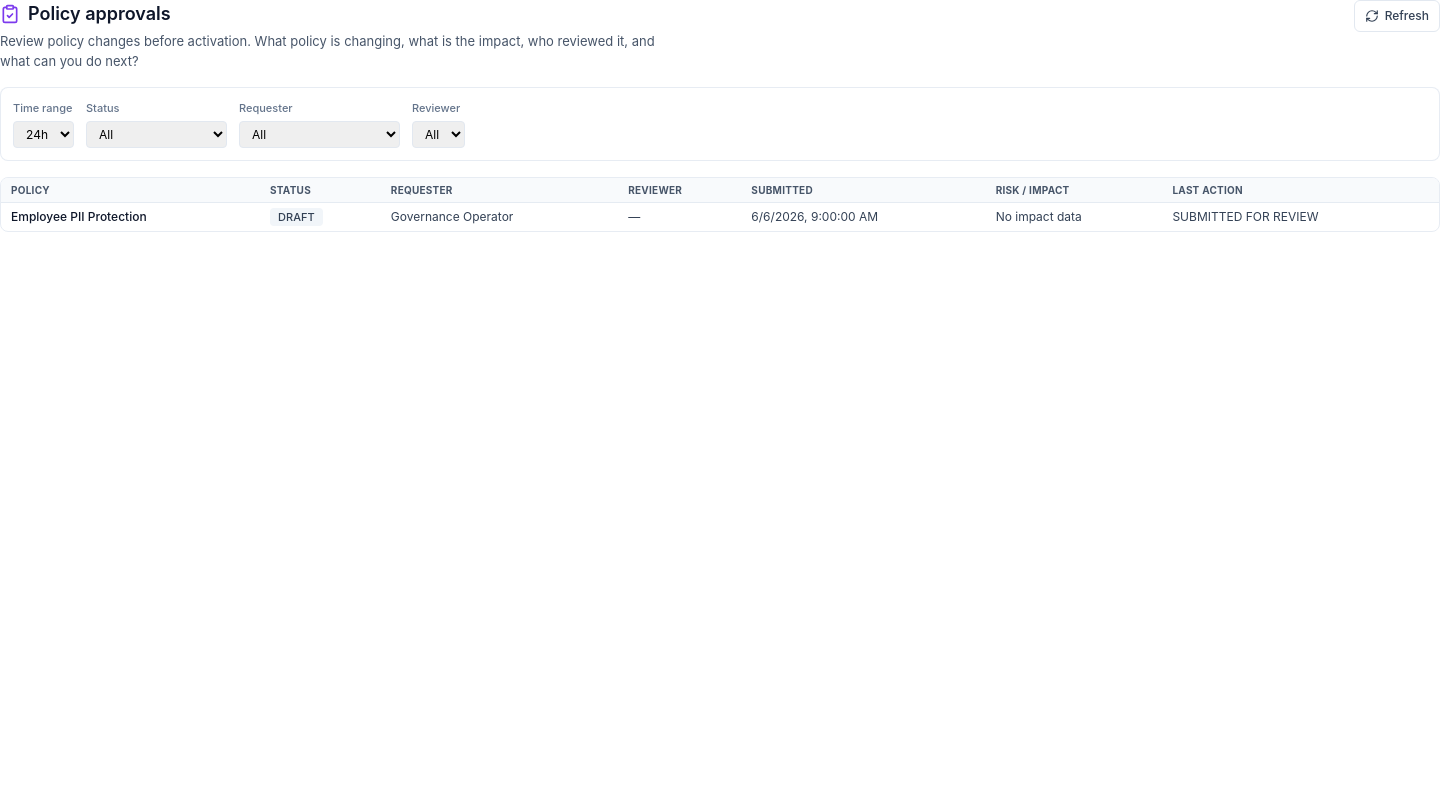
Test: ApprovalWorkflowPage › shows submit button for draft policy
What coordinates should you click on to do the following:
click the row with test id "approval-row-7"
I would click on:
 (79, 217)
Its box is [1,202,1439,231].
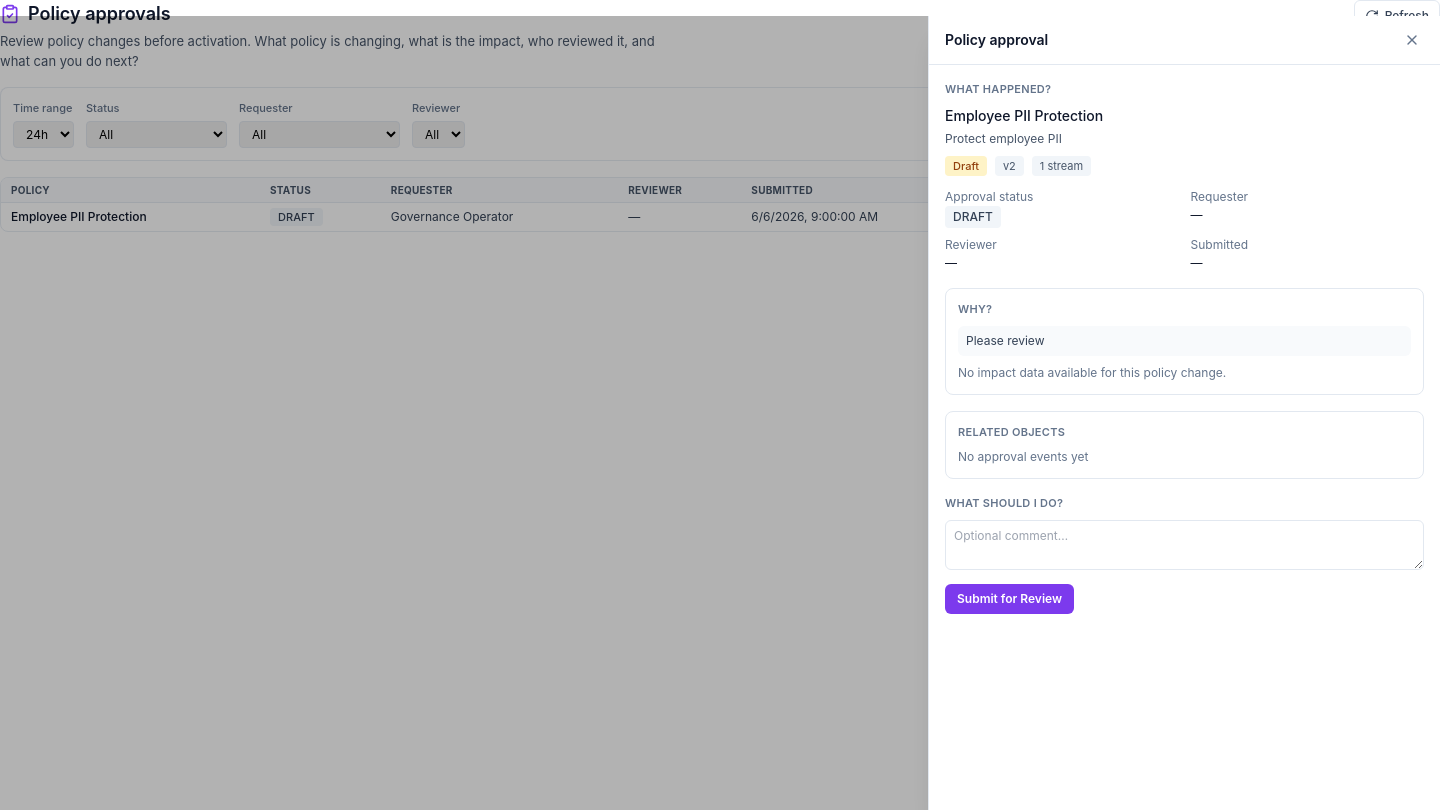
expect the button with test id "approval-action-submit" is shown: met, box [945,584,1074,614]
